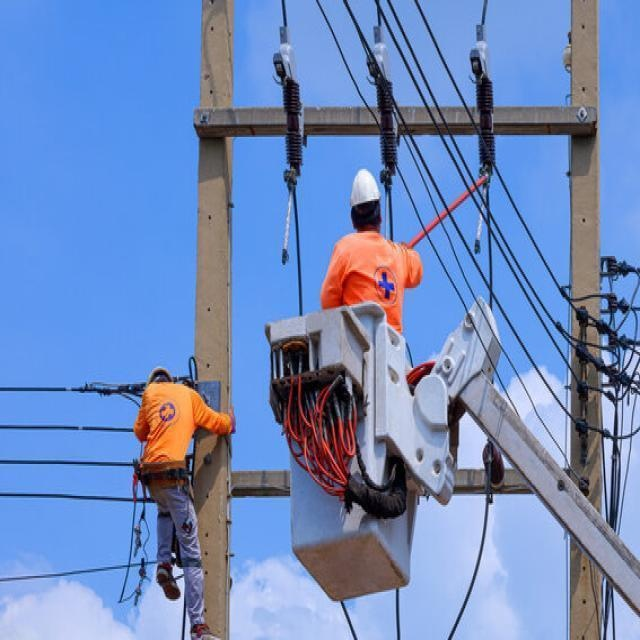Arnes_seguridad: (136, 460, 193, 495)
